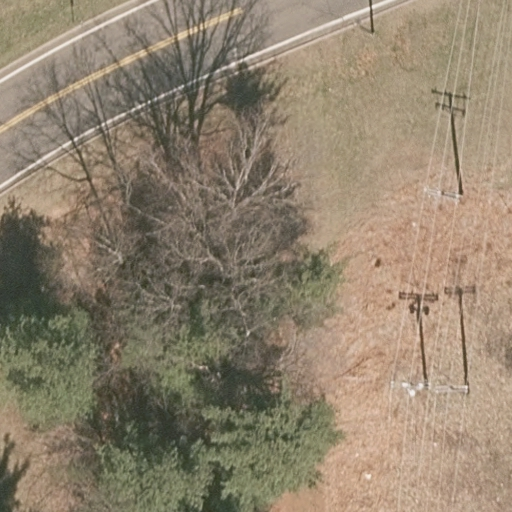DT: (389, 378, 431, 398), (424, 187, 463, 205), (427, 382, 469, 398)
